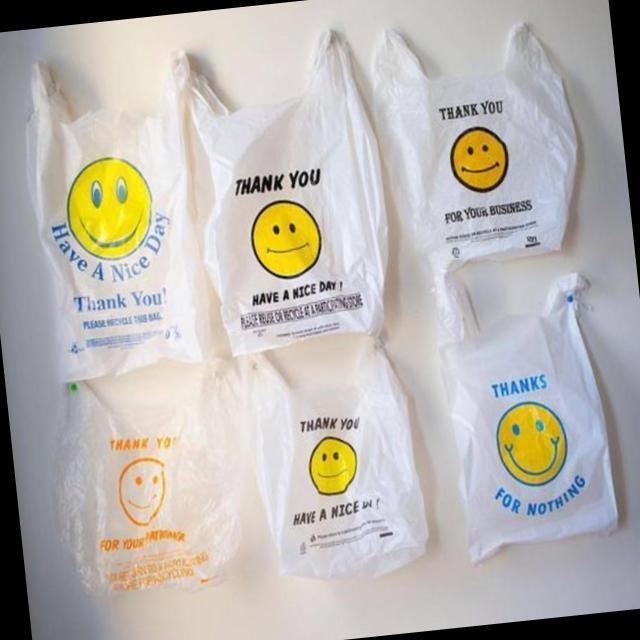Plastic_Bag: (14, 46, 228, 378)
